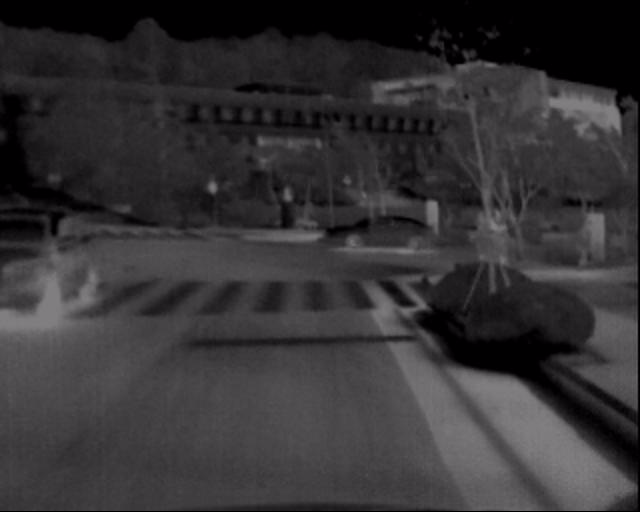person: (490, 208, 522, 283), (576, 213, 604, 268)
